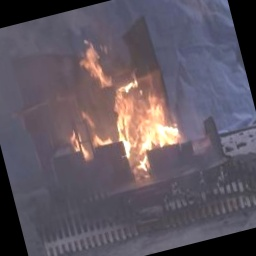fire: (71, 40, 182, 176)
